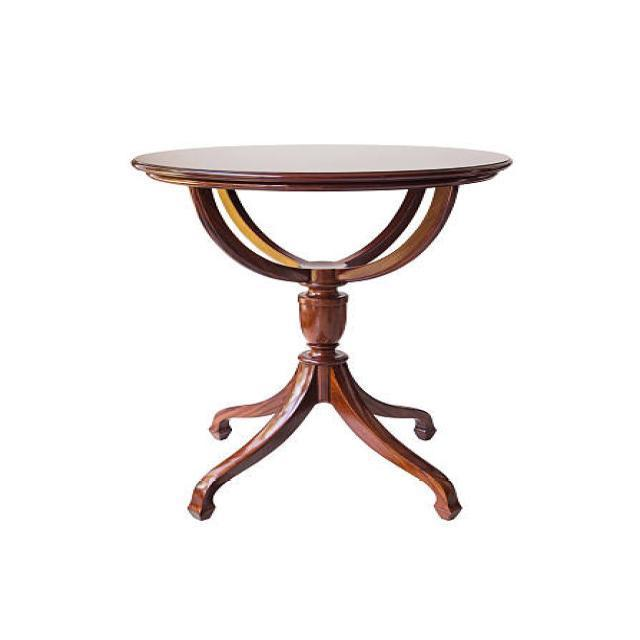table: (128, 143, 512, 522)
